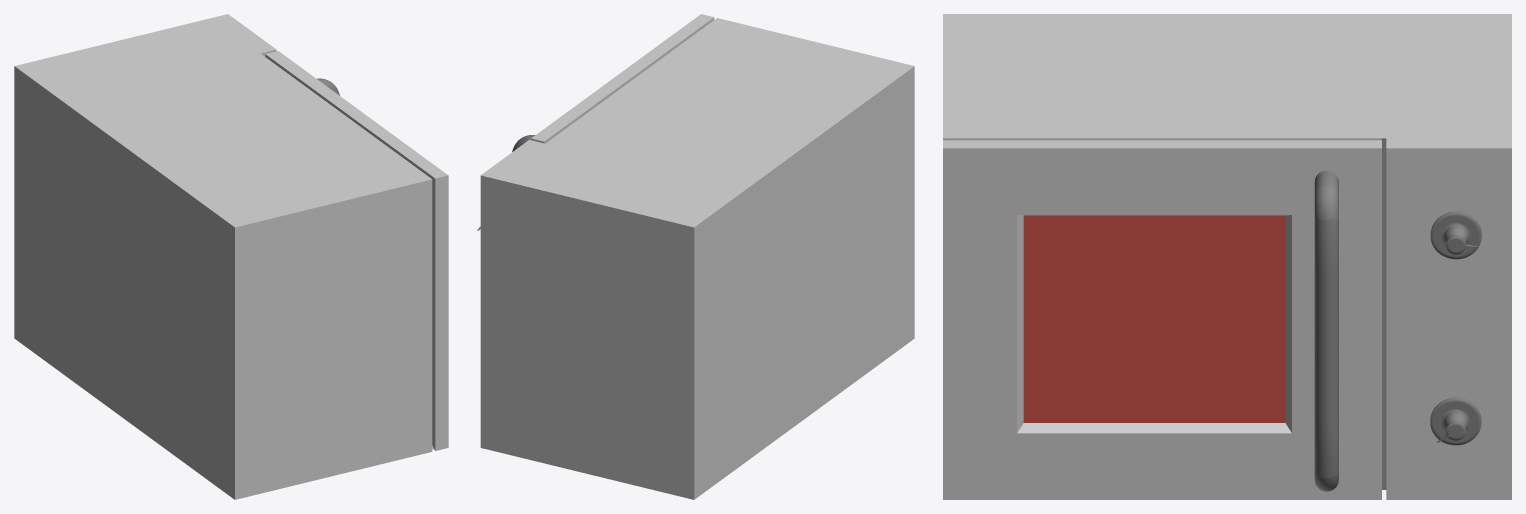
The model's file is MicrowaweOven.fbx.
3 renders of one model, left to right at view 1: azimuth 30°, elevation 25°; view 2: azimuth 150°, elevation 25°; view 3: azimuth 270°, elevation 25°, orthographic. The views are drawn at different scales.
Parts seen in each view (by area): view 1: Куб; view 2: Куб; view 3: Куб.
Part boxes in pixels (x1,y1,x2,y2): Куб: [14, 14, 448, 499]; Куб: [477, 14, 914, 499]; Куб: [943, 14, 1511, 499].
Size of the model in its own units: 132 by 136 by 200.
